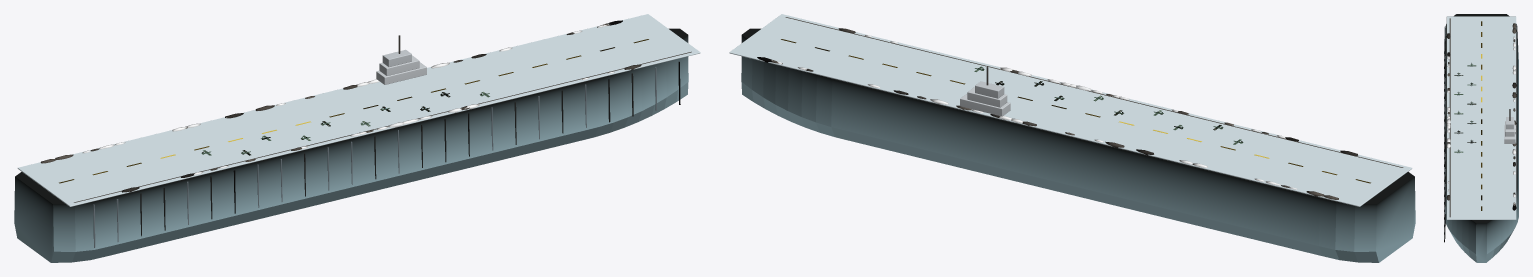
Rendered from carrier.glb.
The picture shows the model from 3 angles, left to right: view 1: azimuth 30°, elevation 25°; view 2: azimuth 150°, elevation 25°; view 3: azimuth 270°, elevation 25°; orthographic projection. The views are drawn at different scales.
Visible parts, largest first — view 1: carrier.ice.0, carrier.ice.1, carrier.metal.5, carrier.snow.10, carrier.paint.4, carrier.paint.3, carrier.paint.2; view 2: carrier.ice.0, carrier.ice.1, carrier.snow.10, carrier.paint.4, carrier.paint.3, carrier.paint.2; view 3: carrier.ice.1, carrier.ice.0, carrier.snow.10, carrier.metal.5, carrier.paint.3, carrier.paint.4, carrier.paint.6, carrier.paint.2.
Boxes of the visible parts, box(x1,y1,x2,y2) form: carrier.ice.0: box(14, 28, 688, 262); carrier.ice.1: box(17, 14, 700, 206); carrier.metal.5: box(93, 61, 680, 247); carrier.snow.10: box(40, 20, 641, 192); carrier.paint.4: box(376, 35, 426, 84); carrier.paint.3: box(74, 51, 691, 202); carrier.paint.2: box(59, 39, 648, 183); carrier.ice.0: box(741, 28, 1415, 262); carrier.ice.1: box(729, 14, 1412, 206); carrier.snow.10: box(757, 28, 1357, 199); carrier.paint.4: box(960, 66, 1010, 116); carrier.paint.3: box(785, 17, 1403, 167); carrier.paint.2: box(781, 39, 1370, 183); carrier.ice.1: box(1446, 16, 1516, 219); carrier.ice.0: box(1445, 14, 1518, 262); carrier.snow.10: box(1446, 23, 1516, 210); carrier.metal.5: box(1444, 25, 1445, 242); carrier.paint.3: box(1449, 18, 1450, 217); carrier.paint.4: box(1504, 109, 1515, 143); carrier.paint.6: box(1454, 63, 1476, 152); carrier.paint.2: box(1481, 21, 1482, 210).
Size of the model in its own units: 610 by 94 by 92.14.
